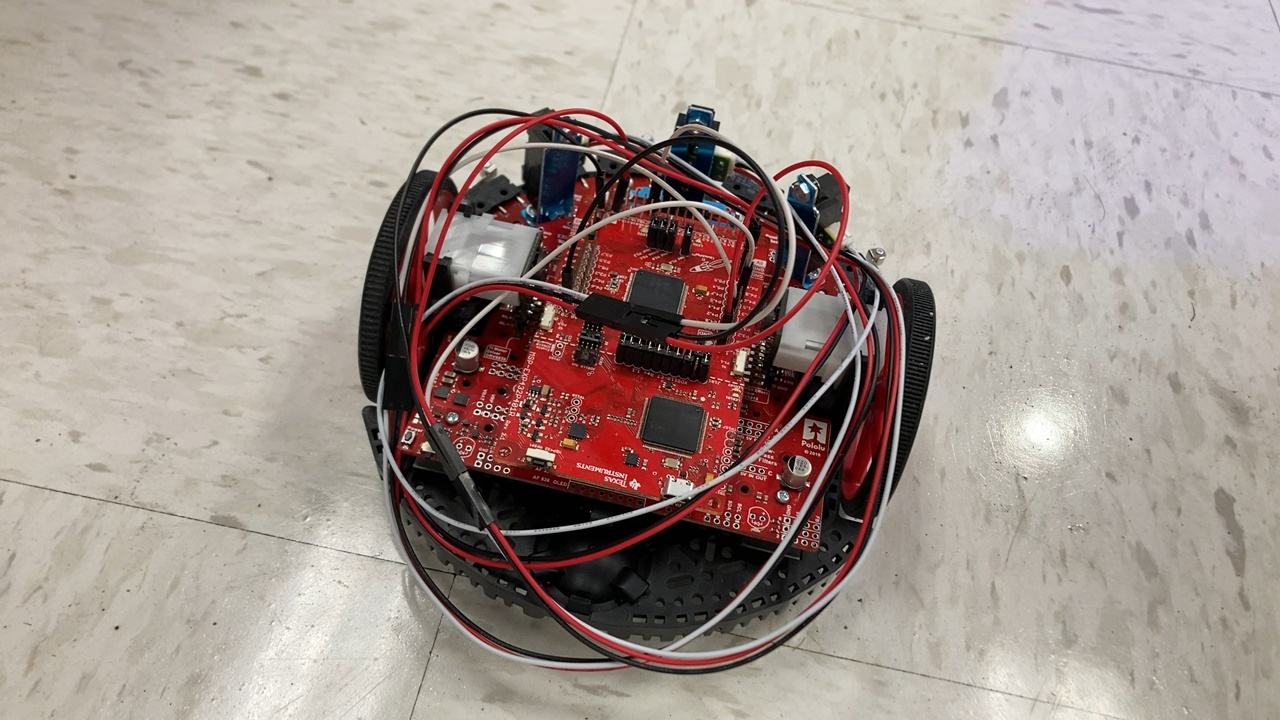robot: (335, 95, 949, 687)
